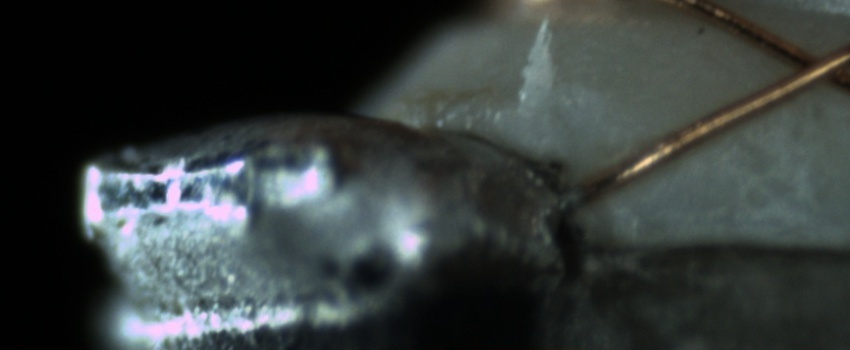CL: (769, 33, 847, 97)
